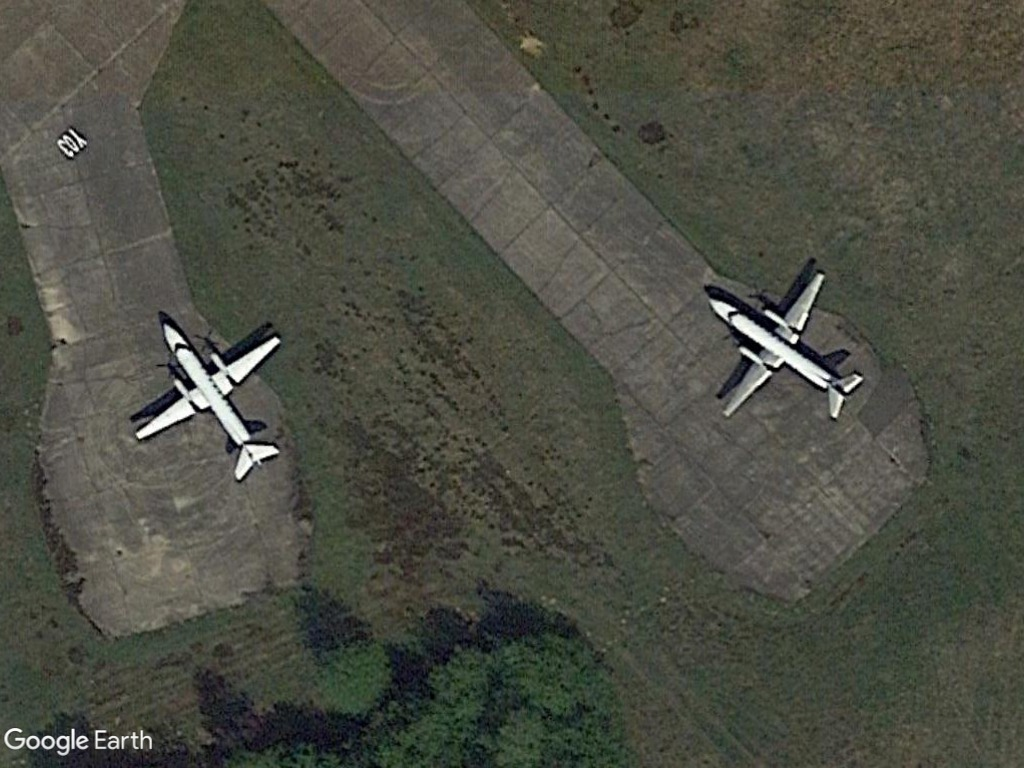propeller: (131, 312, 287, 484), (699, 267, 869, 423)
